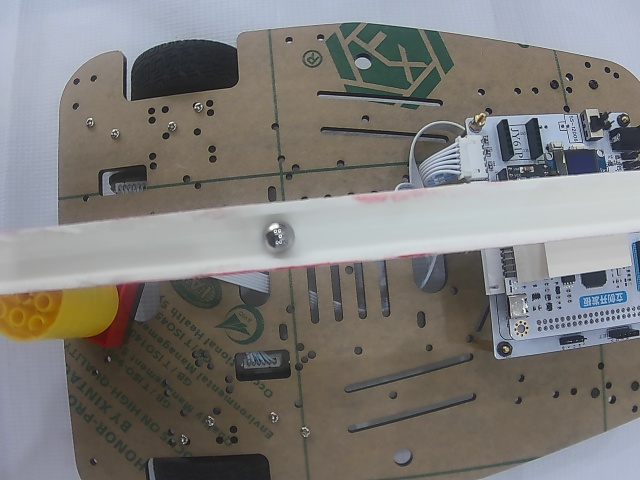steelball: (262, 221, 294, 254)
